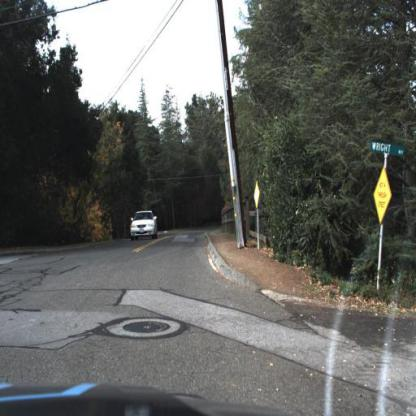car: (130, 210, 161, 241)
